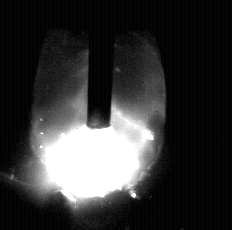arame: (88, 0, 112, 128)
poca: (31, 0, 164, 230)
